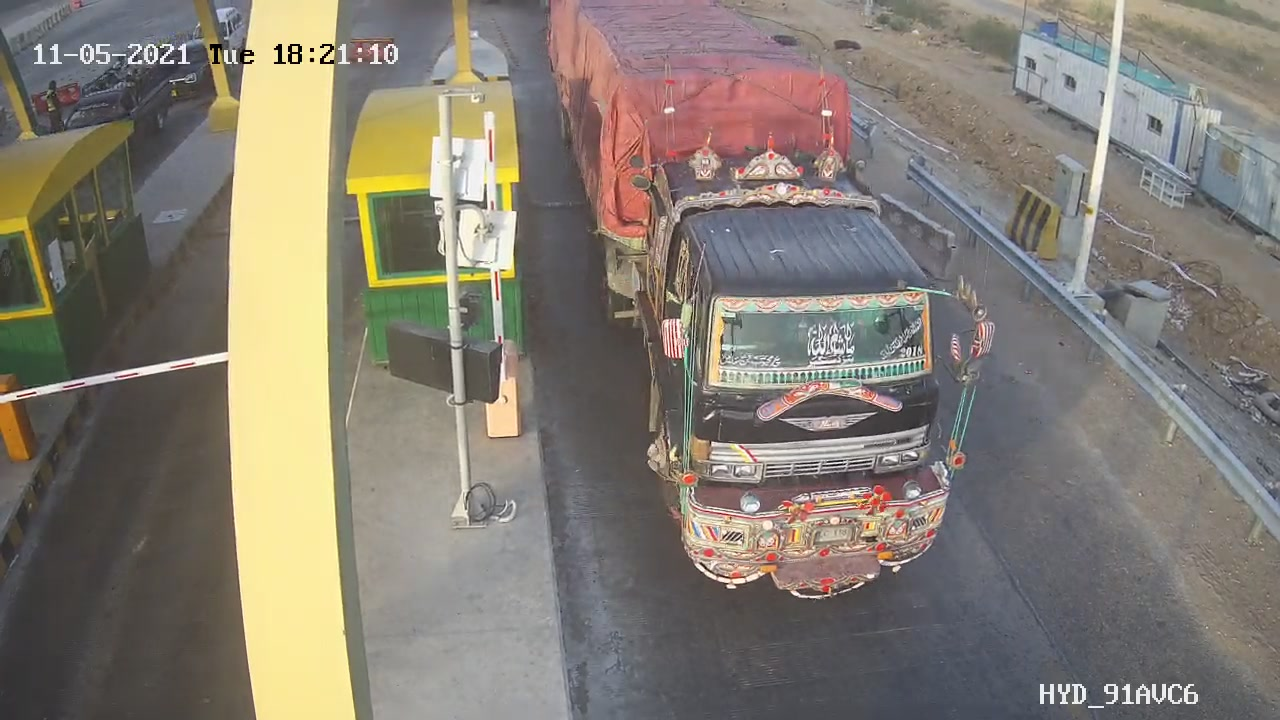F6: (536, 1, 979, 603)
